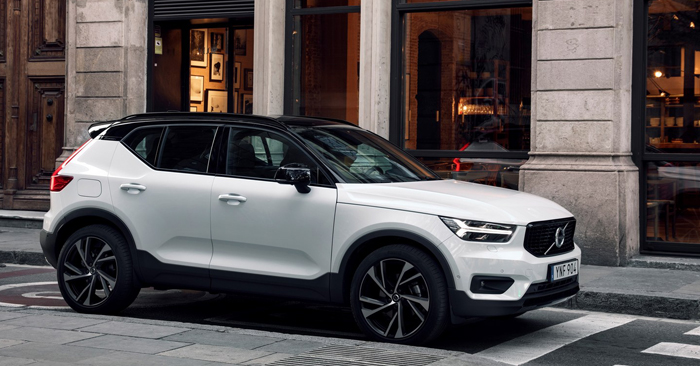pickup: (40, 108, 582, 342)
